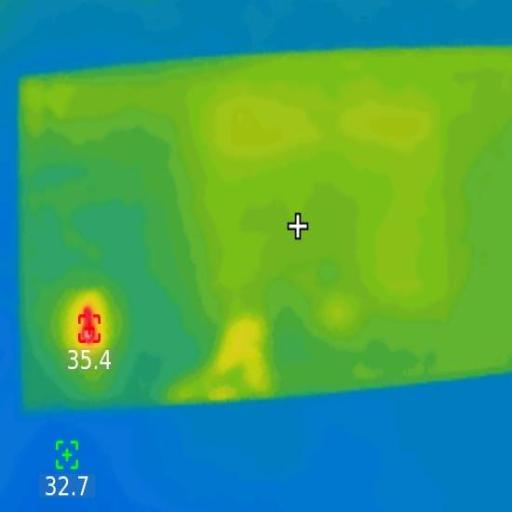hotspot: (76, 308, 104, 353)
